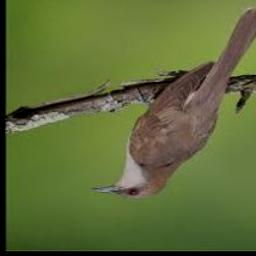Cuckoo: (91, 8, 256, 199)
